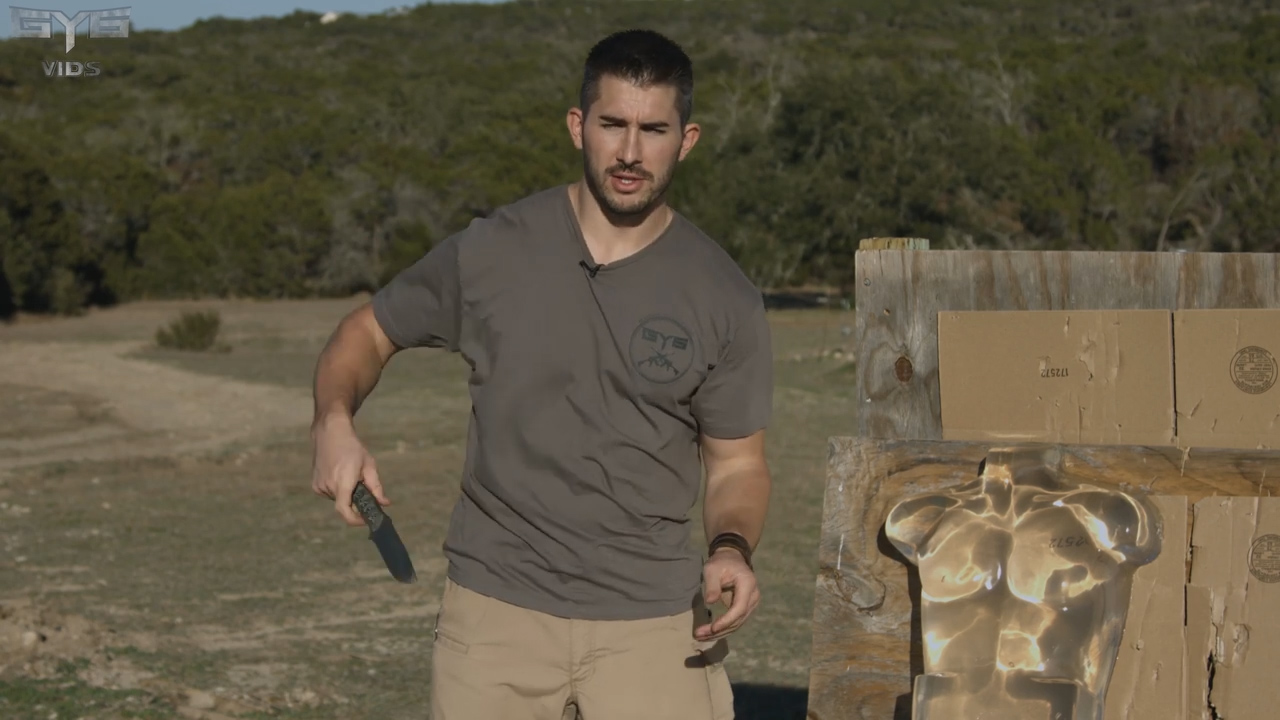knife: (306, 453, 427, 594)
